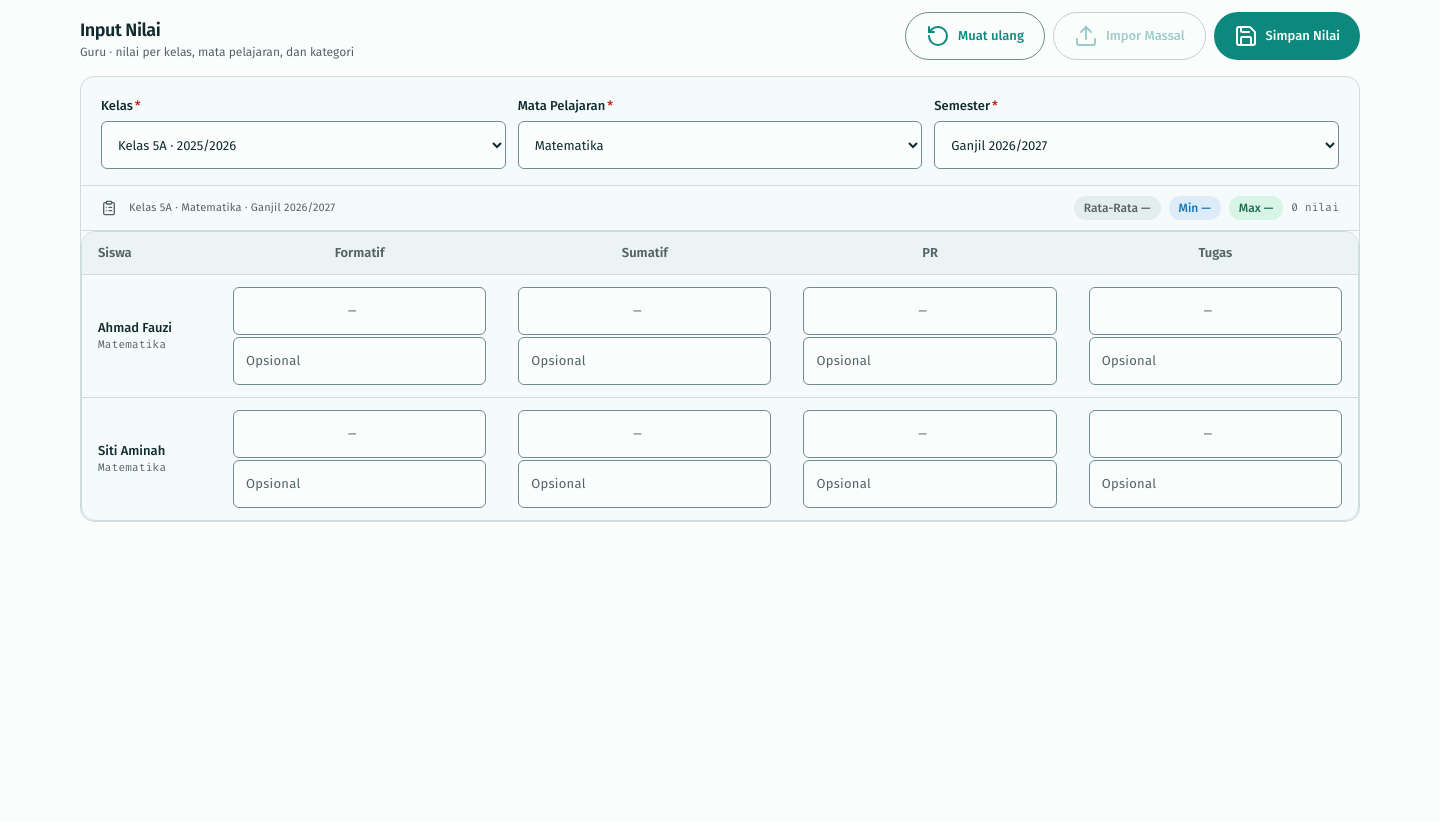
GradesPage › treats the description as optional for SMP/SMA tenants
expect the text "Ahmad Fauzi" is shown: met, box left=98, top=320, right=172, bottom=335
Type "88" into the number field named "Formatif Ahmad Fauzi".
click(360, 311); type("88")  # box left=233, top=287, right=486, bottom=335
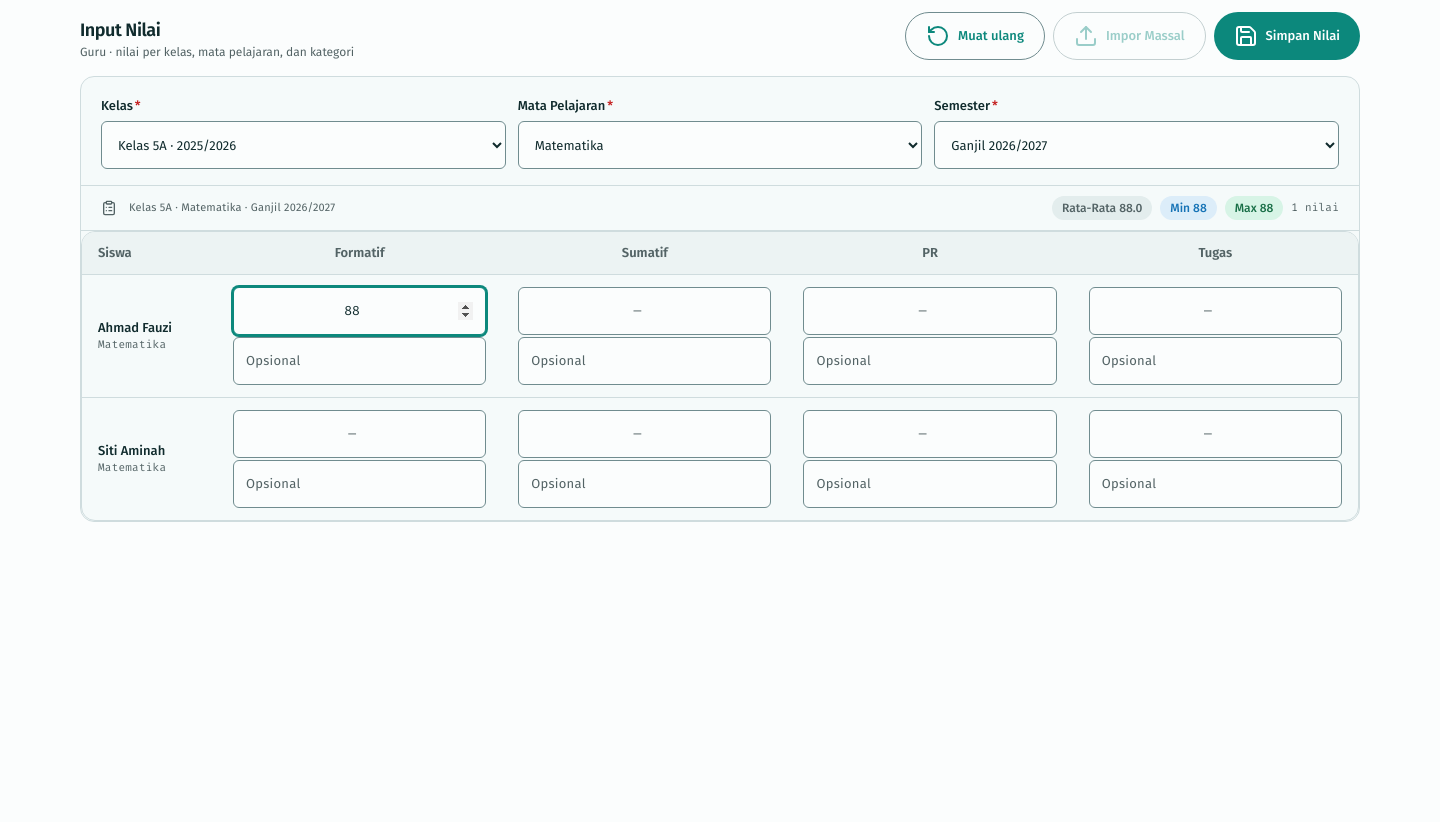
Click the button "Simpan Nilai".
click(1287, 36)  # box left=1214, top=12, right=1360, bottom=60
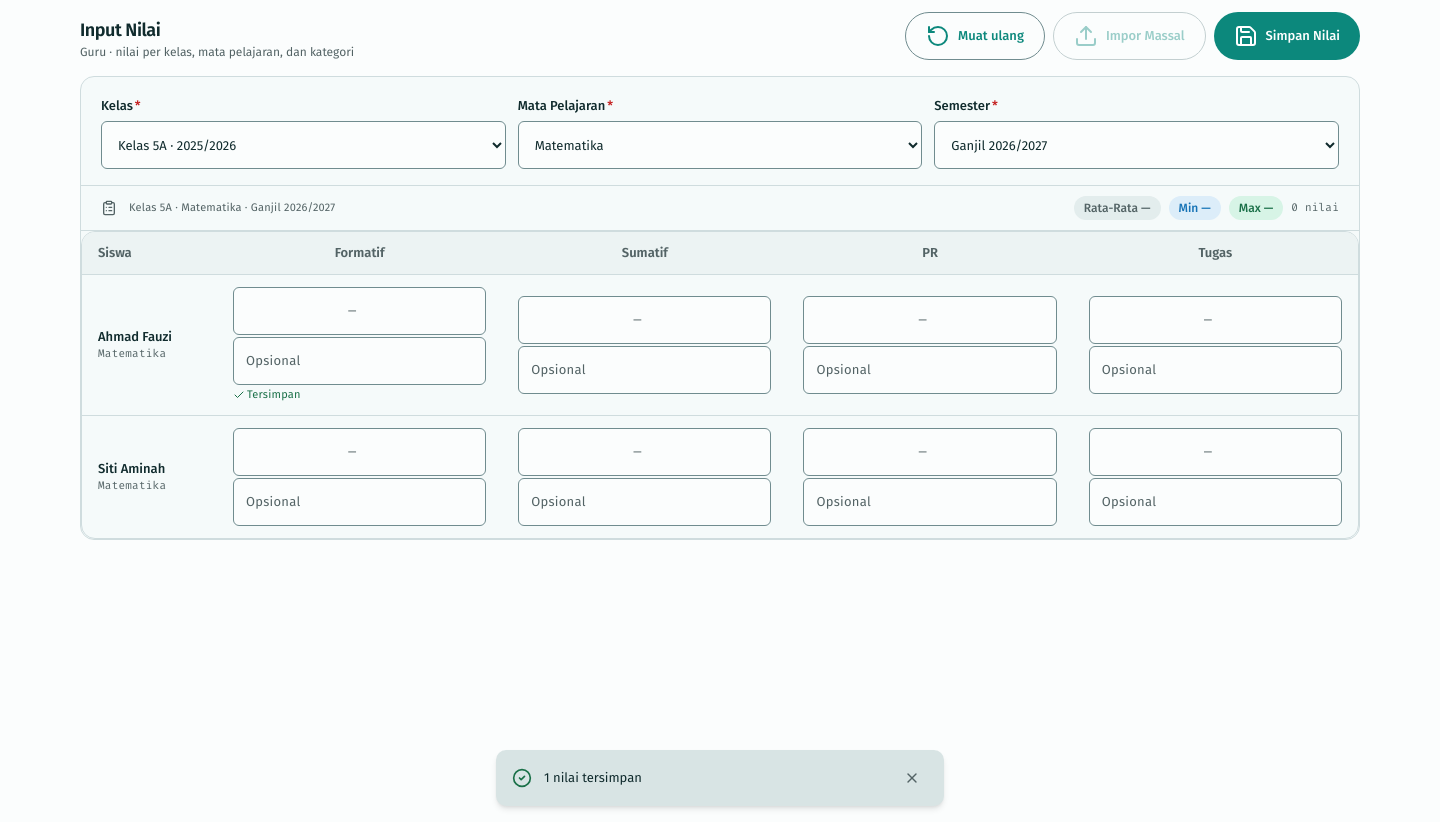
expect the text "1 nilai tersimpan" is shown: met, box left=544, top=770, right=642, bottom=785
